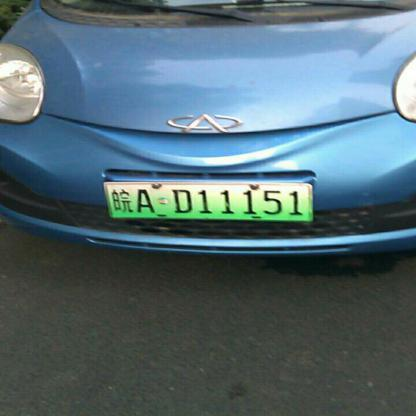lp: (103, 182, 312, 219)
